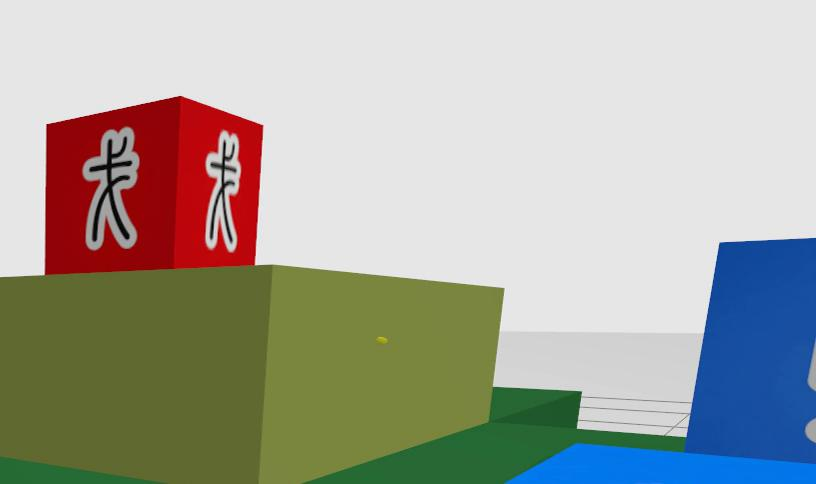KFS_FAKE: (44, 97, 262, 274), (82, 127, 139, 250), (205, 130, 242, 251)
